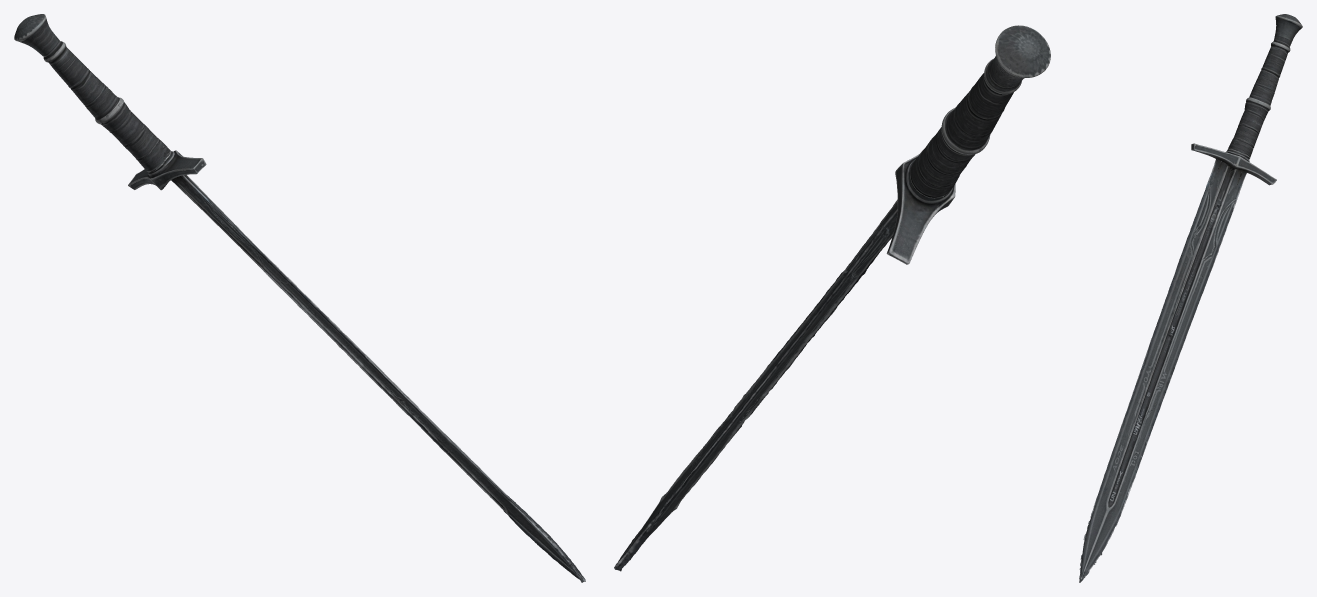
File: medieval+sword+3d+model.fbx
3 views of the same model, side by side, from view 1: azimuth 30°, elevation 25°; view 2: azimuth 150°, elevation 25°; view 3: azimuth 270°, elevation 25° (orthographic). The views are drawn at different scales.
Visible parts, largest first — view 1: meshes[0]; view 2: meshes[0]; view 3: meshes[0].
Part boxes in pixels (<box>): meshes[0]: <box>14,14,585,582</box>; meshes[0]: <box>614,25,1050,571</box>; meshes[0]: <box>1079,14,1302,582</box>.
Bounding box in the file's own units: 0.7965 × 0.9984 × 0.4825.
1 material, 1 textured.
